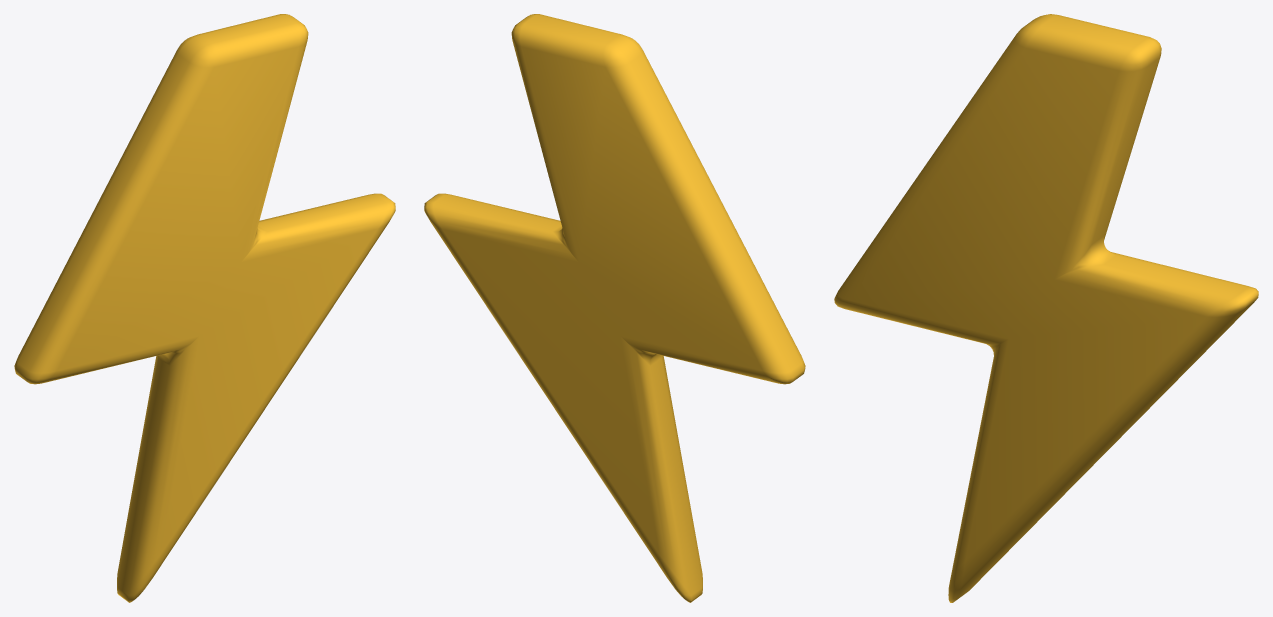
File: SM_TurboStamp.fbx
The picture shows the model from 3 angles, left to right: view 1: azimuth 30°, elevation 25°; view 2: azimuth 150°, elevation 25°; view 3: azimuth 330°, elevation 25°; orthographic projection. The views are drawn at different scales.
Parts seen in each view (by area): view 1: SM_TurboStamp; view 2: SM_TurboStamp; view 3: SM_TurboStamp.
Part boxes in pixels (x1,y1,x2,y2): SM_TurboStamp: [14, 14, 395, 602]; SM_TurboStamp: [424, 14, 805, 602]; SM_TurboStamp: [834, 14, 1258, 602].
Bounding box in the file's own units: 0.9616 × 7.16 × 10.
